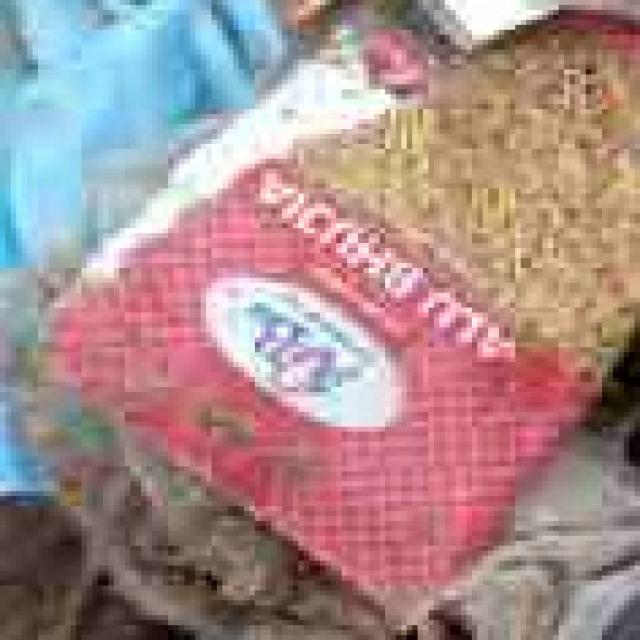giay_goi: (60, 10, 640, 590)
